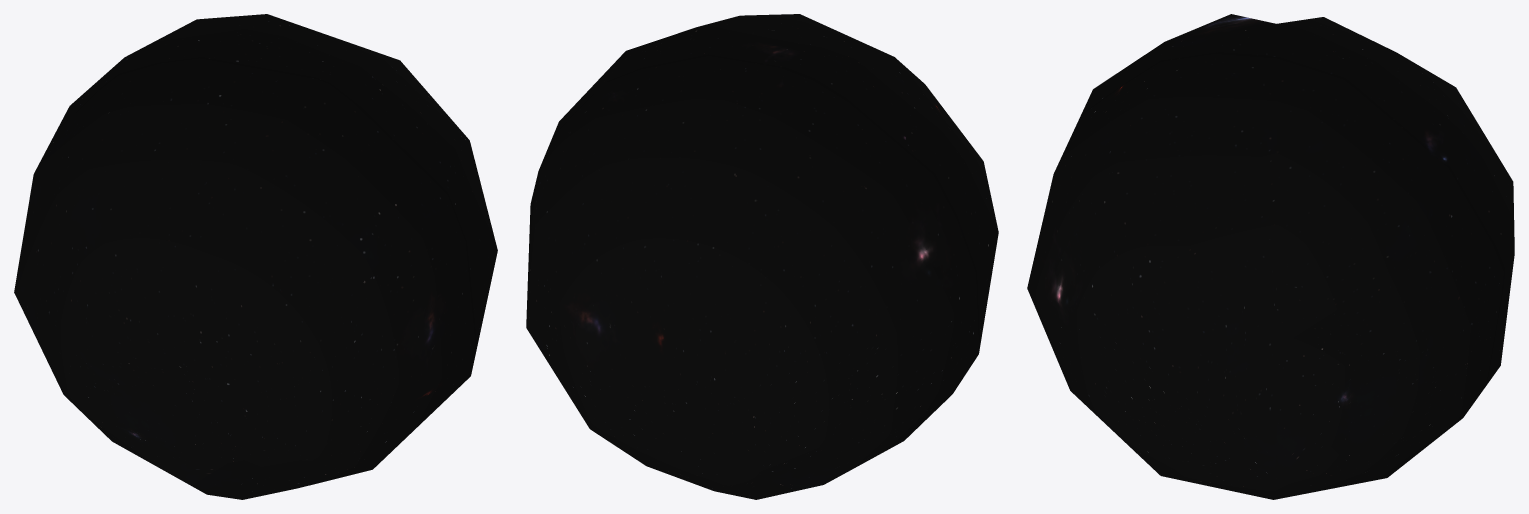
Rendered from sky.glb.
3 views of the same model, side by side, from view 1: azimuth 30°, elevation 25°; view 2: azimuth 150°, elevation 25°; view 3: azimuth 270°, elevation 25° (orthographic).
Visible parts, largest first — view 1: Sphere__0; view 2: Sphere__0; view 3: Sphere__0.
Part boxes in pixels (left/top/right/bottom): Sphere__0: left=14, top=14, right=497, bottom=499; Sphere__0: left=526, top=14, right=998, bottom=499; Sphere__0: left=1027, top=14, right=1514, bottom=499.
Size of the model in its own units: 20.37 by 20.09 by 20.05.
Materials: 1 (1 with a texture image).
